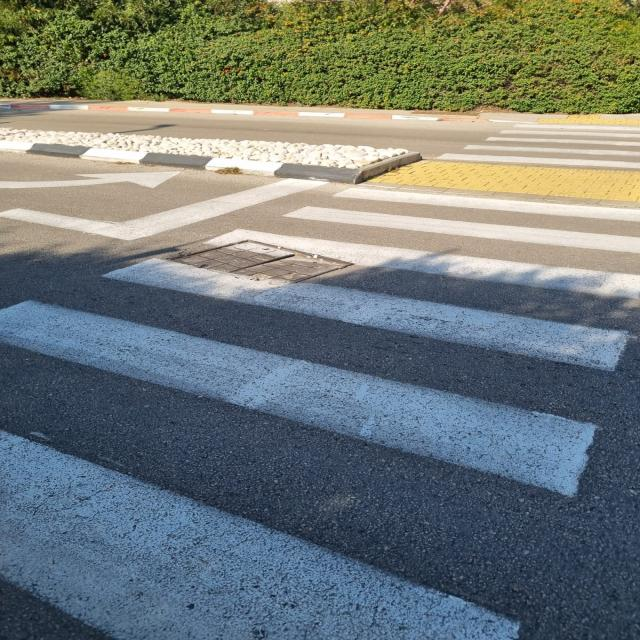medium_pothole: (162, 238, 352, 283)
